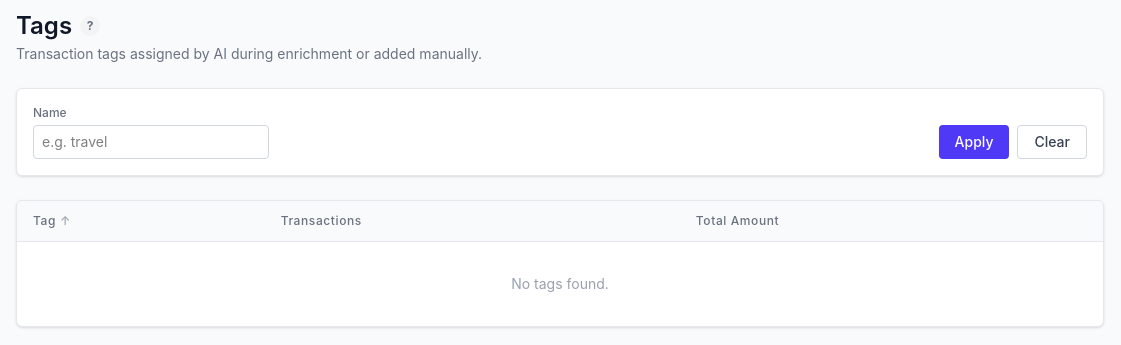
it: TagsPage › clears filter when Clear is clicked
Type "food" into the field with placeholder "e.g. travel".
click(151, 142); type("food")  # box [33,125,269,159]
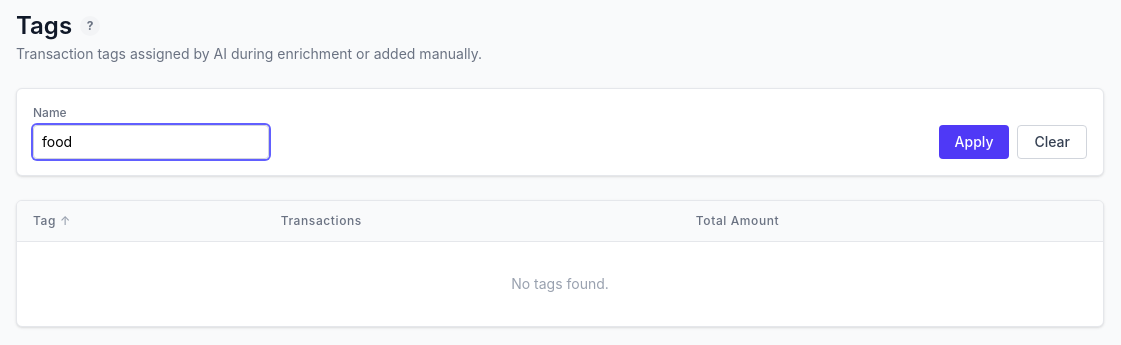
Click the button "Clear".
click(1052, 142)  # box [1018,125,1087,159]
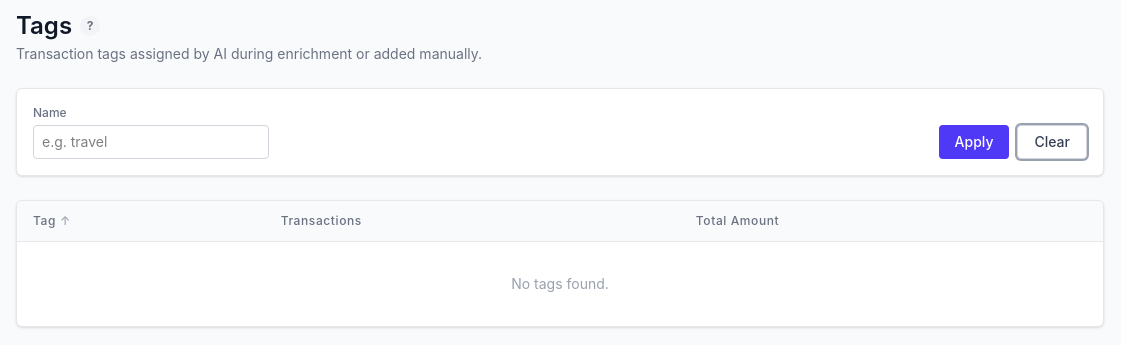
Expected: the field with placeholder "e.g. travel" is empty, [33,125,269,159]
